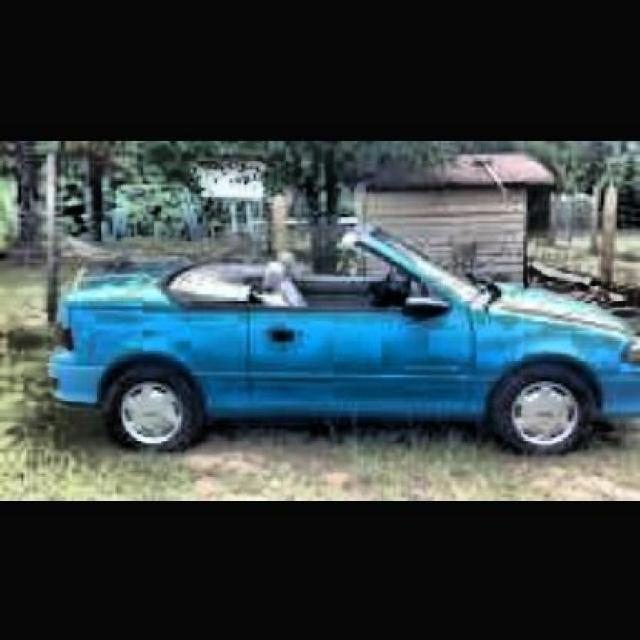blue: (51, 252, 640, 451)
